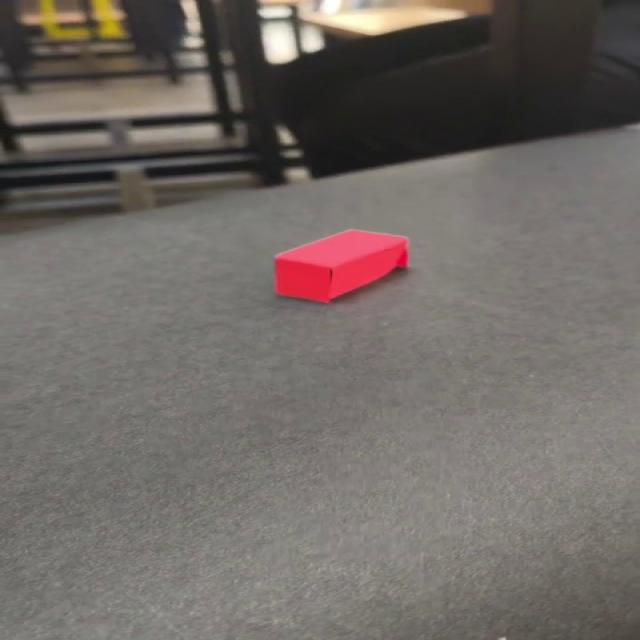red block: (272, 227, 409, 304)
